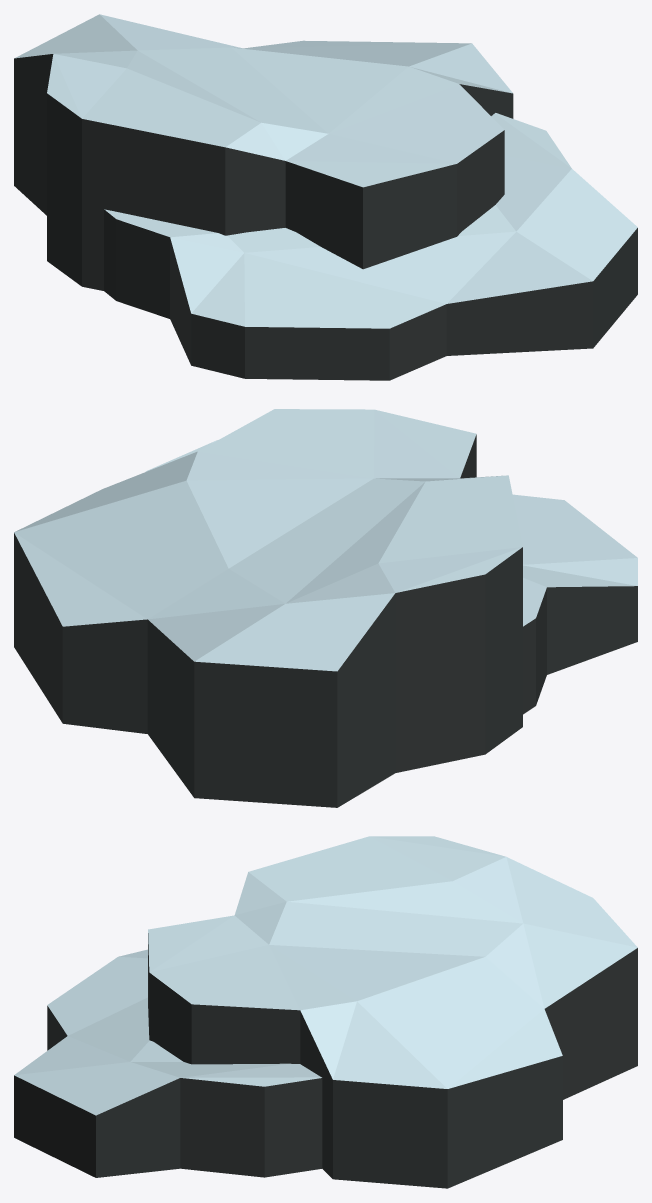
The model's file is SM_Env_Generic_Cliffs_02_Snow.fbx.
3 views of the same model, one above another, from view 1: azimuth 30°, elevation 25°; view 2: azimuth 150°, elevation 25°; view 3: azimuth 270°, elevation 25° (orthographic). The views are drawn at different scales.
Parts seen in each view (by area): view 1: SM_Env_Generic_Cliffs_02_Snow; view 2: SM_Env_Generic_Cliffs_02_Snow; view 3: SM_Env_Generic_Cliffs_02_Snow.
Part boxes in pixels (left/top/right/bottom): SM_Env_Generic_Cliffs_02_Snow: left=14, top=14, right=637, bottom=380; SM_Env_Generic_Cliffs_02_Snow: left=14, top=409, right=637, bottom=807; SM_Env_Generic_Cliffs_02_Snow: left=14, top=836, right=637, bottom=1188.
Bounding box in the file's own units: 166 × 61.46 × 223.
Materials: 1 (1 with a texture image).
